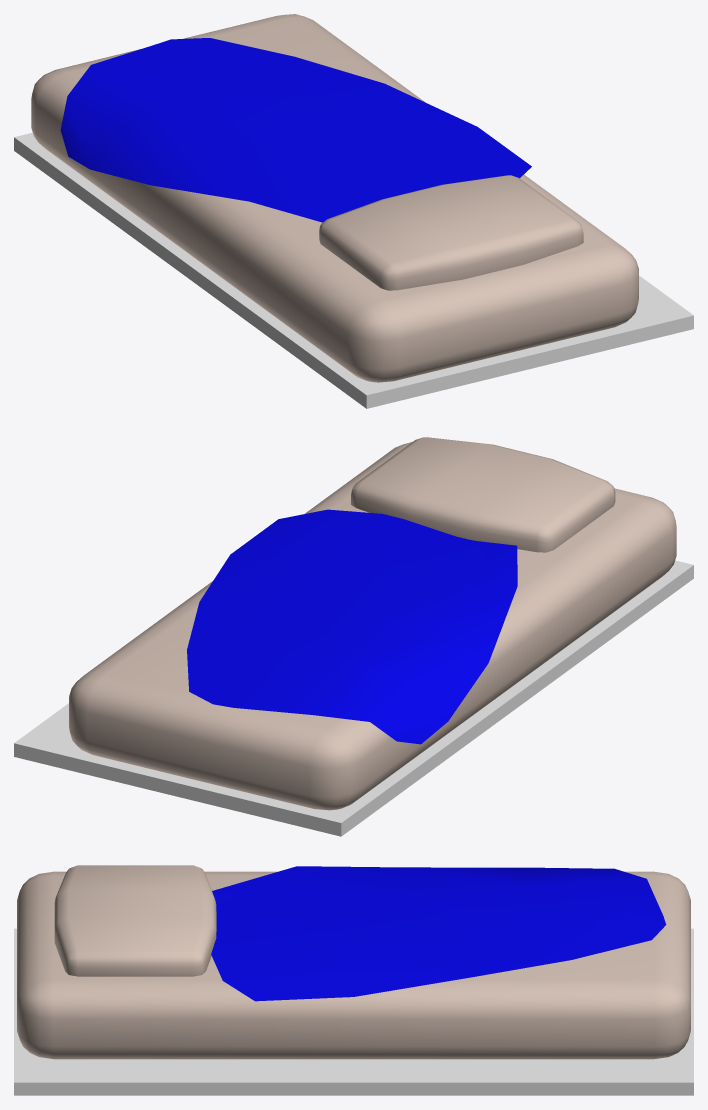
File: Bed.fbx
3 renders of one model, top to bottom at view 1: azimuth 30°, elevation 25°; view 2: azimuth 150°, elevation 25°; view 3: azimuth 270°, elevation 25°, orthographic. The views are drawn at different scales.
Visible parts, largest first — view 1: Bed; view 2: Bed; view 3: Bed.
Boxes of the visible parts, x1,y1,x2,y2 form: Bed: [14, 14, 693, 408]; Bed: [14, 437, 693, 836]; Bed: [14, 865, 693, 1095].
Size of the model in its own units: 189 by 58.88 by 337.
